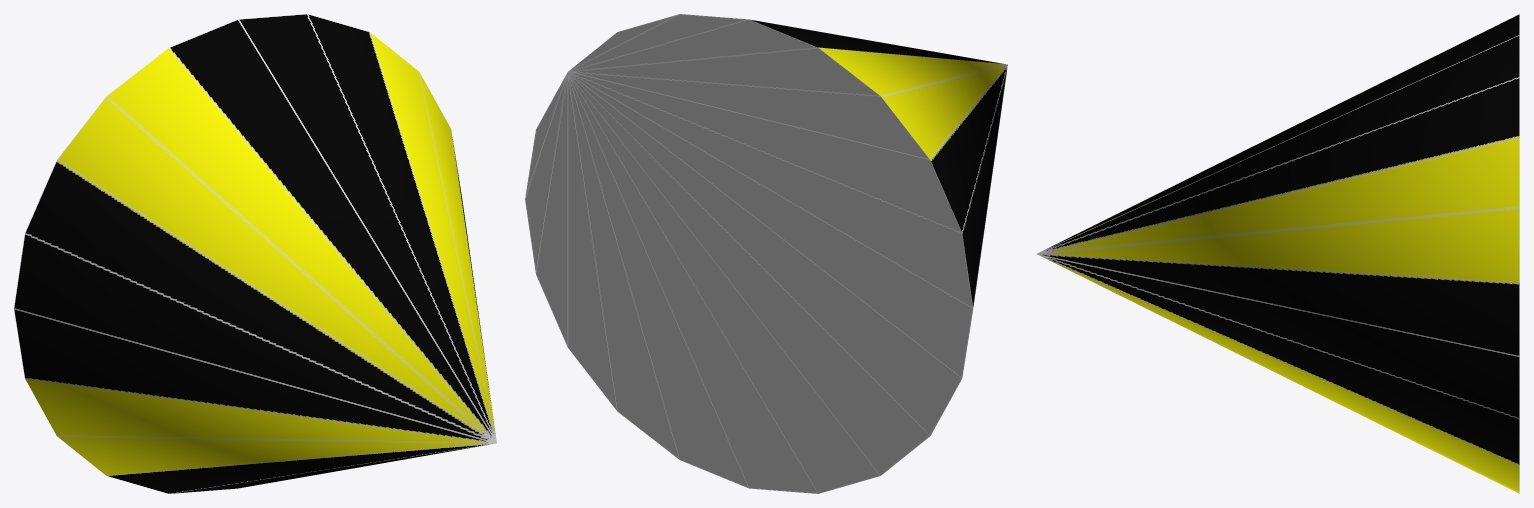
Rendered from light_tower.fbx.
3 renders of one model, left to right at view 1: azimuth 30°, elevation 25°; view 2: azimuth 150°, elevation 25°; view 3: azimuth 270°, elevation 25°, orthographic. The views are drawn at different scales.
Visible parts, largest first — view 1: pCone1; view 2: pCone1; view 3: pCone1.
Part boxes in pixels (x1,y1,x2,y2): pCone1: (14, 14, 496, 493); pCone1: (525, 14, 1007, 493); pCone1: (1037, 14, 1519, 493).
Size of the model in its own units: 2 by 2 by 2.
1 material, 1 textured.
